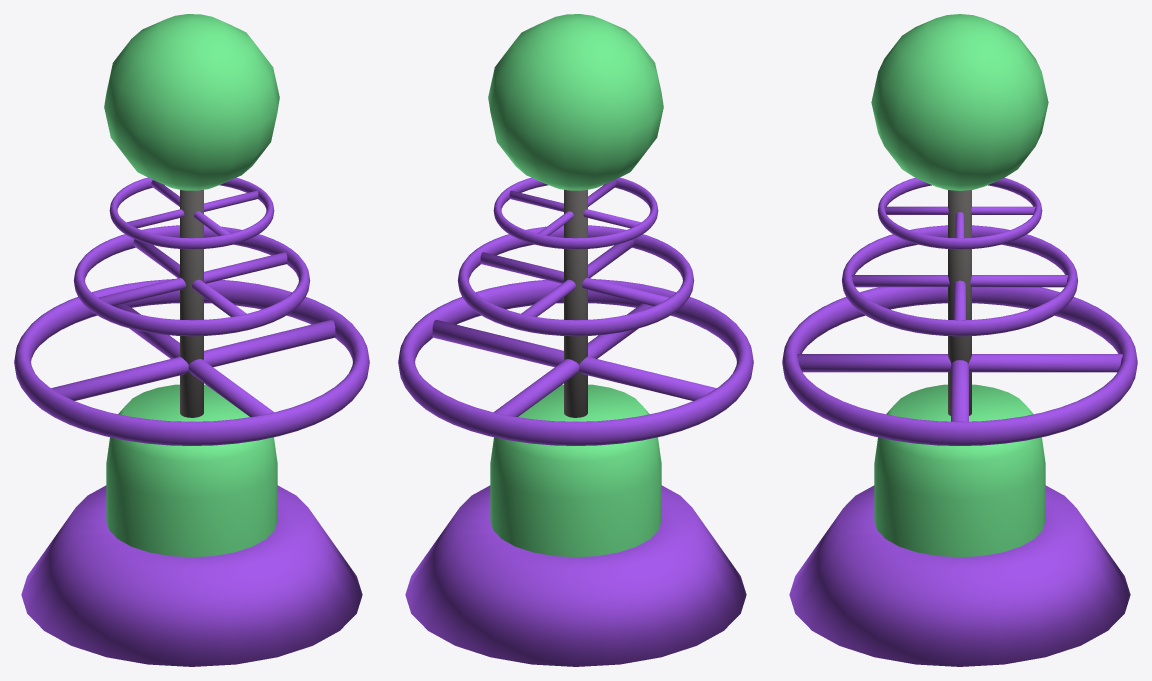
Rendered from Obstacle 29 V4.fbx.
The picture shows the model from 3 angles, left to right: view 1: azimuth 30°, elevation 25°; view 2: azimuth 150°, elevation 25°; view 3: azimuth 270°, elevation 25°; orthographic projection.
Visible parts, largest first — view 1: 029 Part 1; view 2: 029 Part 1; view 3: 029 Part 1.
Boxes of the visible parts, left/top/right/bottom form: 029 Part 1: left=14, top=14, right=369, bottom=666; 029 Part 1: left=398, top=14, right=753, bottom=666; 029 Part 1: left=782, top=14, right=1137, bottom=666.
Size of the model in its own units: 66.38 by 118 by 66.38.
Materials: 1 (1 with a texture image).
